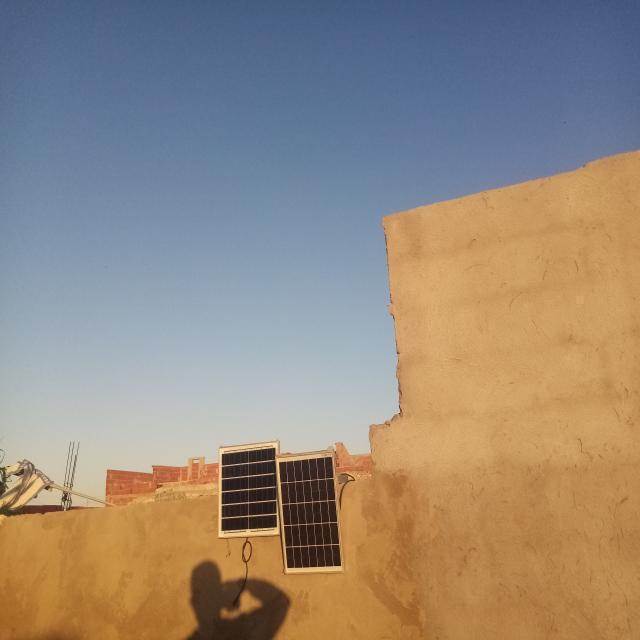Normal Solar Panel: (276, 451, 344, 574), (218, 441, 279, 539)
